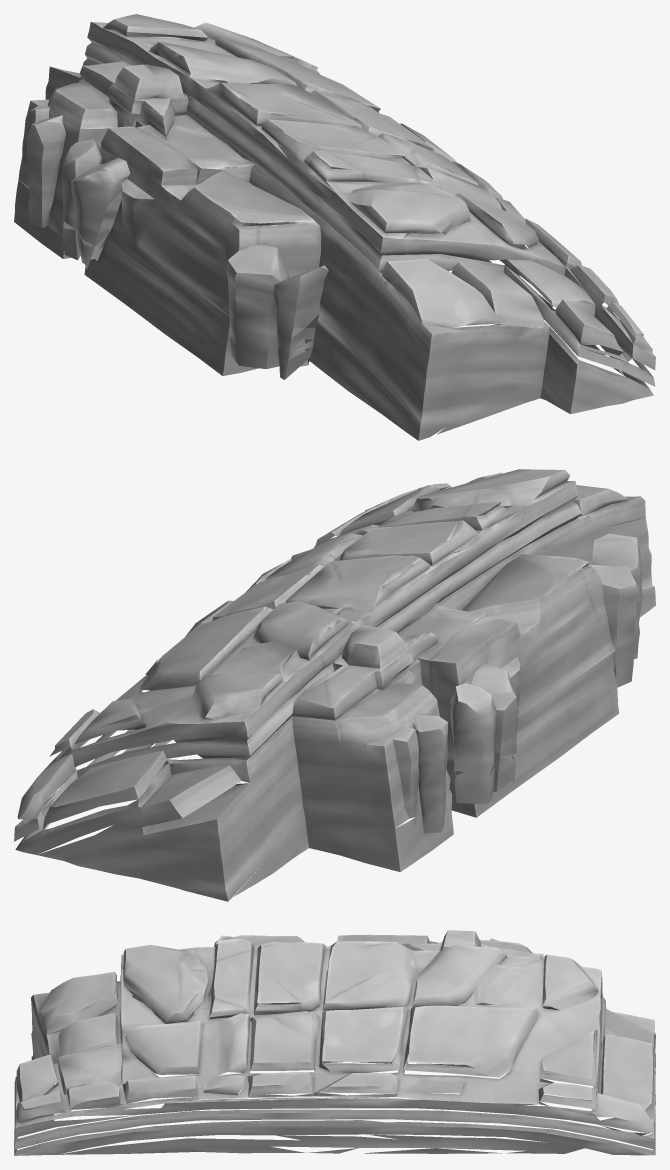
The model's file is sculpted_ledge_01.glb.
3 views of the same model, one above another, from view 1: azimuth 30°, elevation 25°; view 2: azimuth 150°, elevation 25°; view 3: azimuth 270°, elevation 25° (orthographic). The views are drawn at different scales.
Visible parts, largest first — view 1: sculpted_ledge_01; view 2: sculpted_ledge_01; view 3: sculpted_ledge_01.
Boxes of the visible parts, x1,y1,x2,y2 form: sculpted_ledge_01: (14,14,655,440); sculpted_ledge_01: (14,469,655,901); sculpted_ledge_01: (14,930,655,1155).
Size of the model in its own units: 15.03 by 7.93 by 32.05.
Materials: 1 (1 with a texture image).
